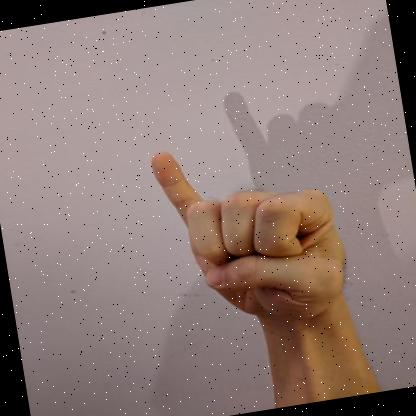I: (151, 151, 349, 326)
